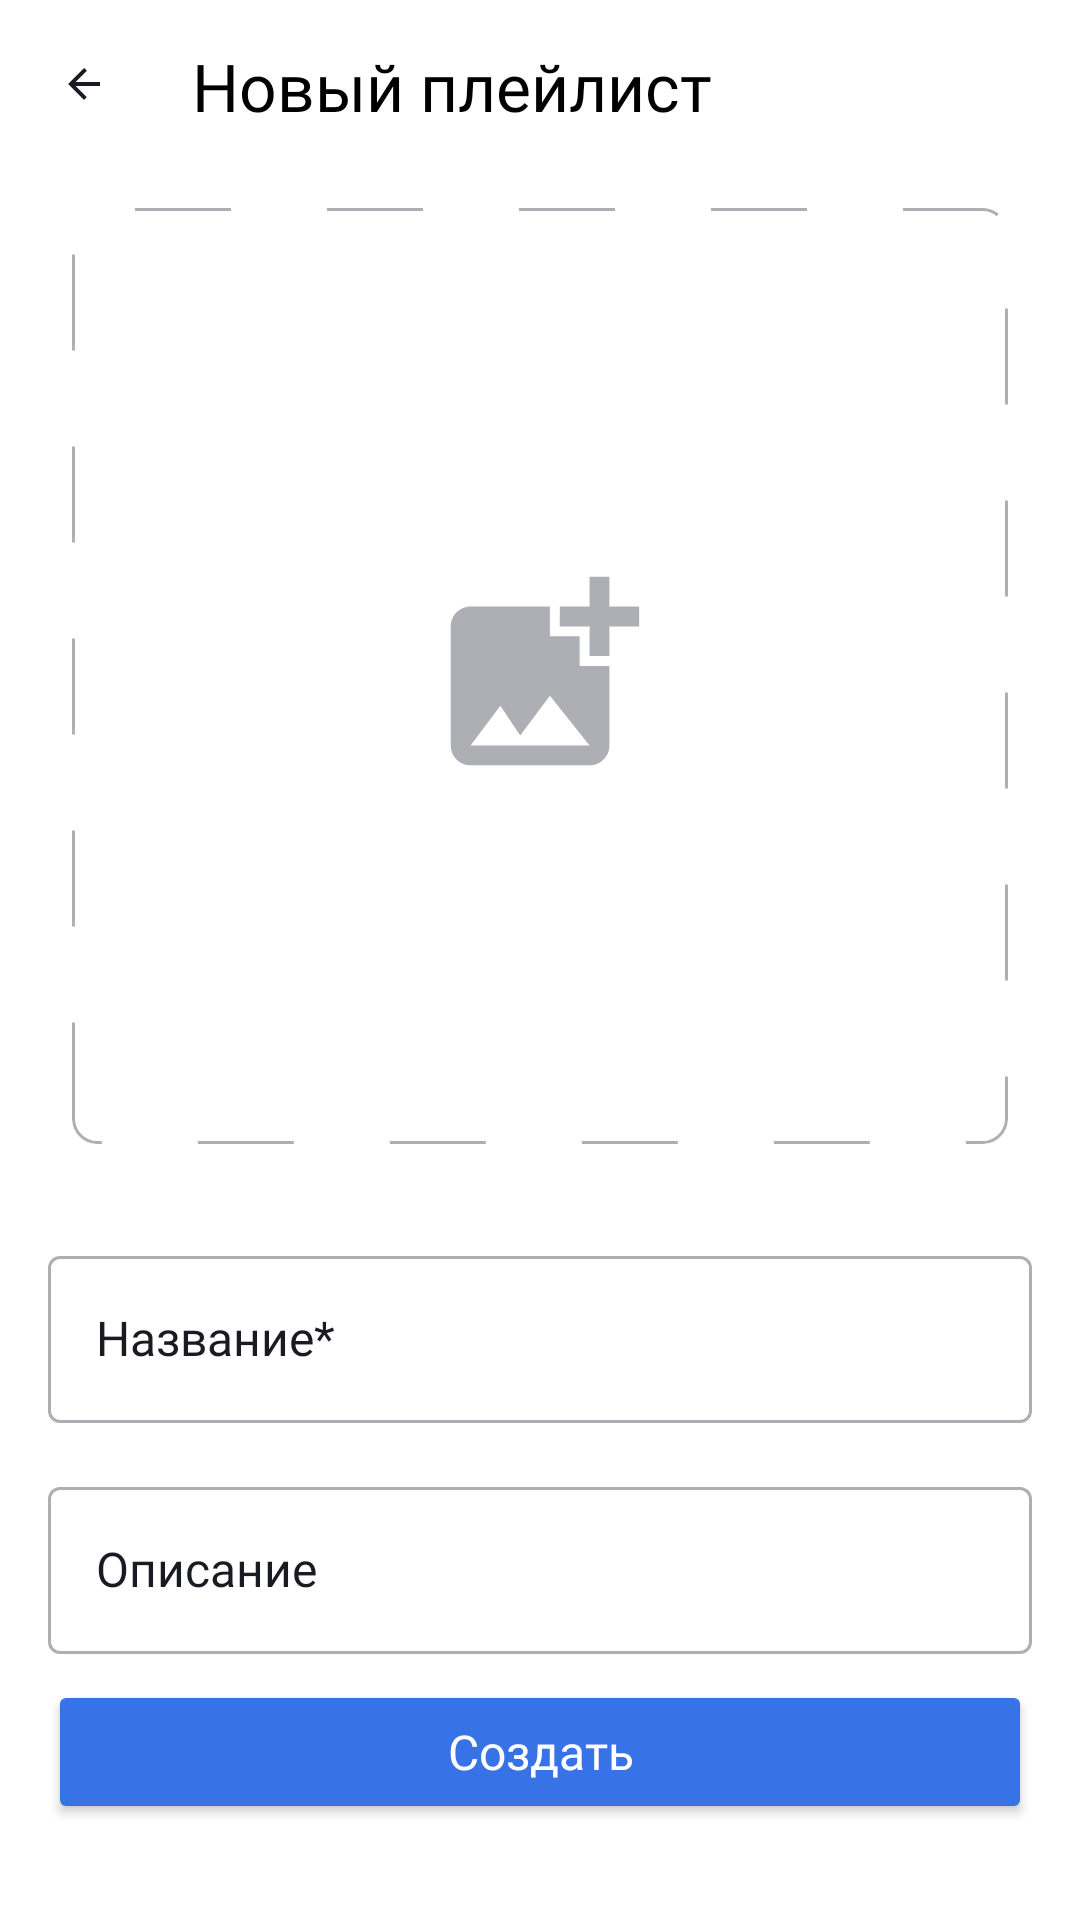

Named icons in this screenshot (1080 x 1920) and their centers, [x,y]:
back: [84,84]
